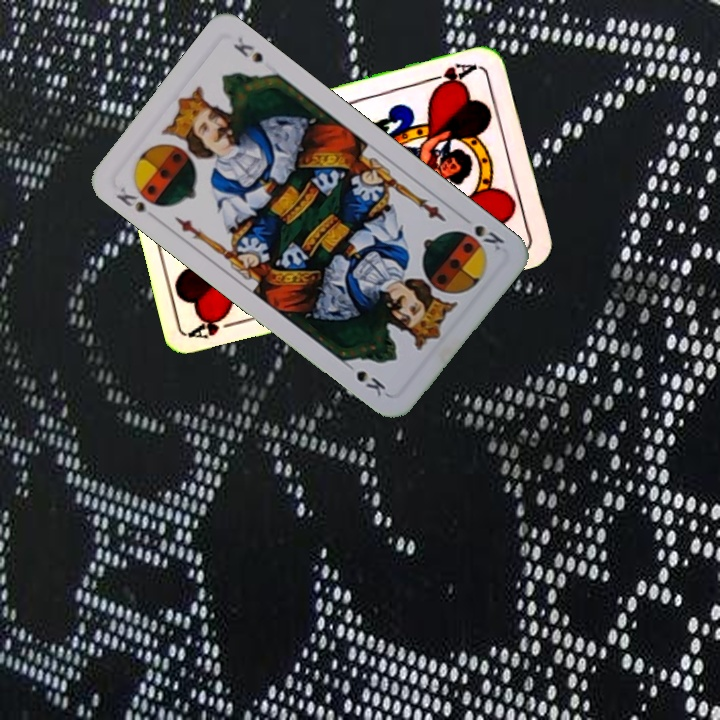HA: (424, 58, 482, 93), (188, 308, 247, 342)
SK: (112, 180, 165, 216), (470, 221, 507, 256)
